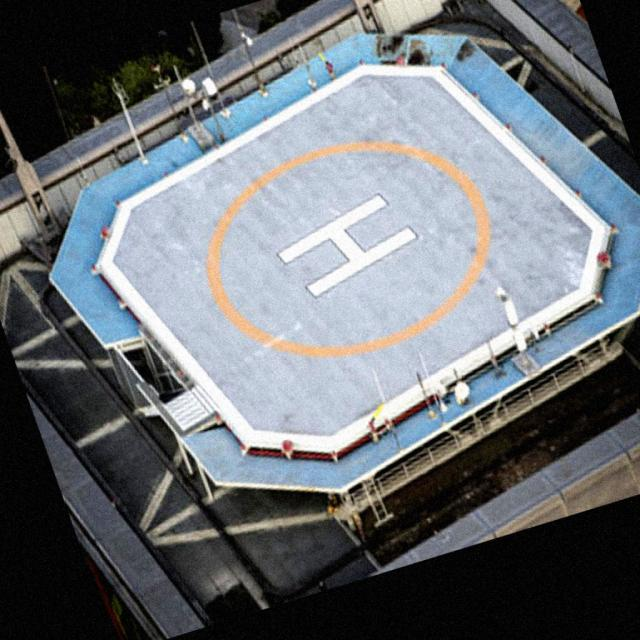helipad: (197, 132, 496, 366)
